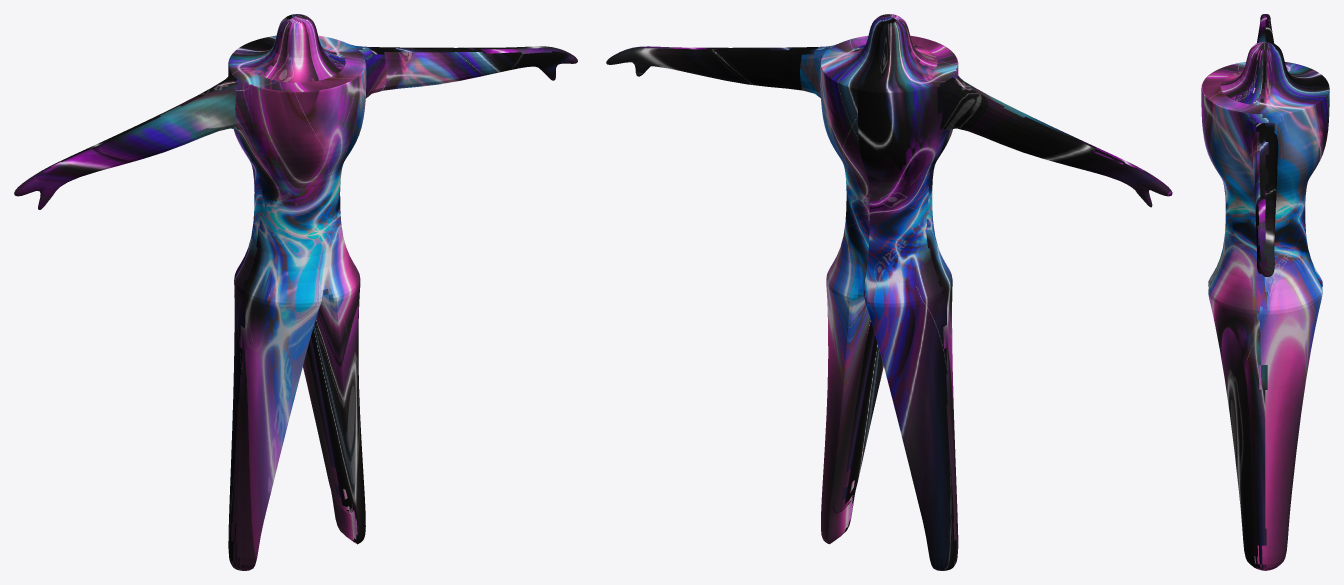
File: HaloPlayerBody.fbx
3 views of the same model, side by side, from view 1: azimuth 30°, elevation 25°; view 2: azimuth 150°, elevation 25°; view 3: azimuth 270°, elevation 25° (orthographic). The views are drawn at different scales.
Parts seen in each view (by area): view 1: Cylinder; view 2: Cylinder; view 3: Cylinder.
Part boxes in pixels (x1,y1,x2,y2): Cylinder: (14,14,577,570); Cylinder: (606,14,1172,570); Cylinder: (1201,14,1329,570).
Bounding box in the file's own units: 55.36 × 50.74 × 11.75.
1 material, 1 textured.
